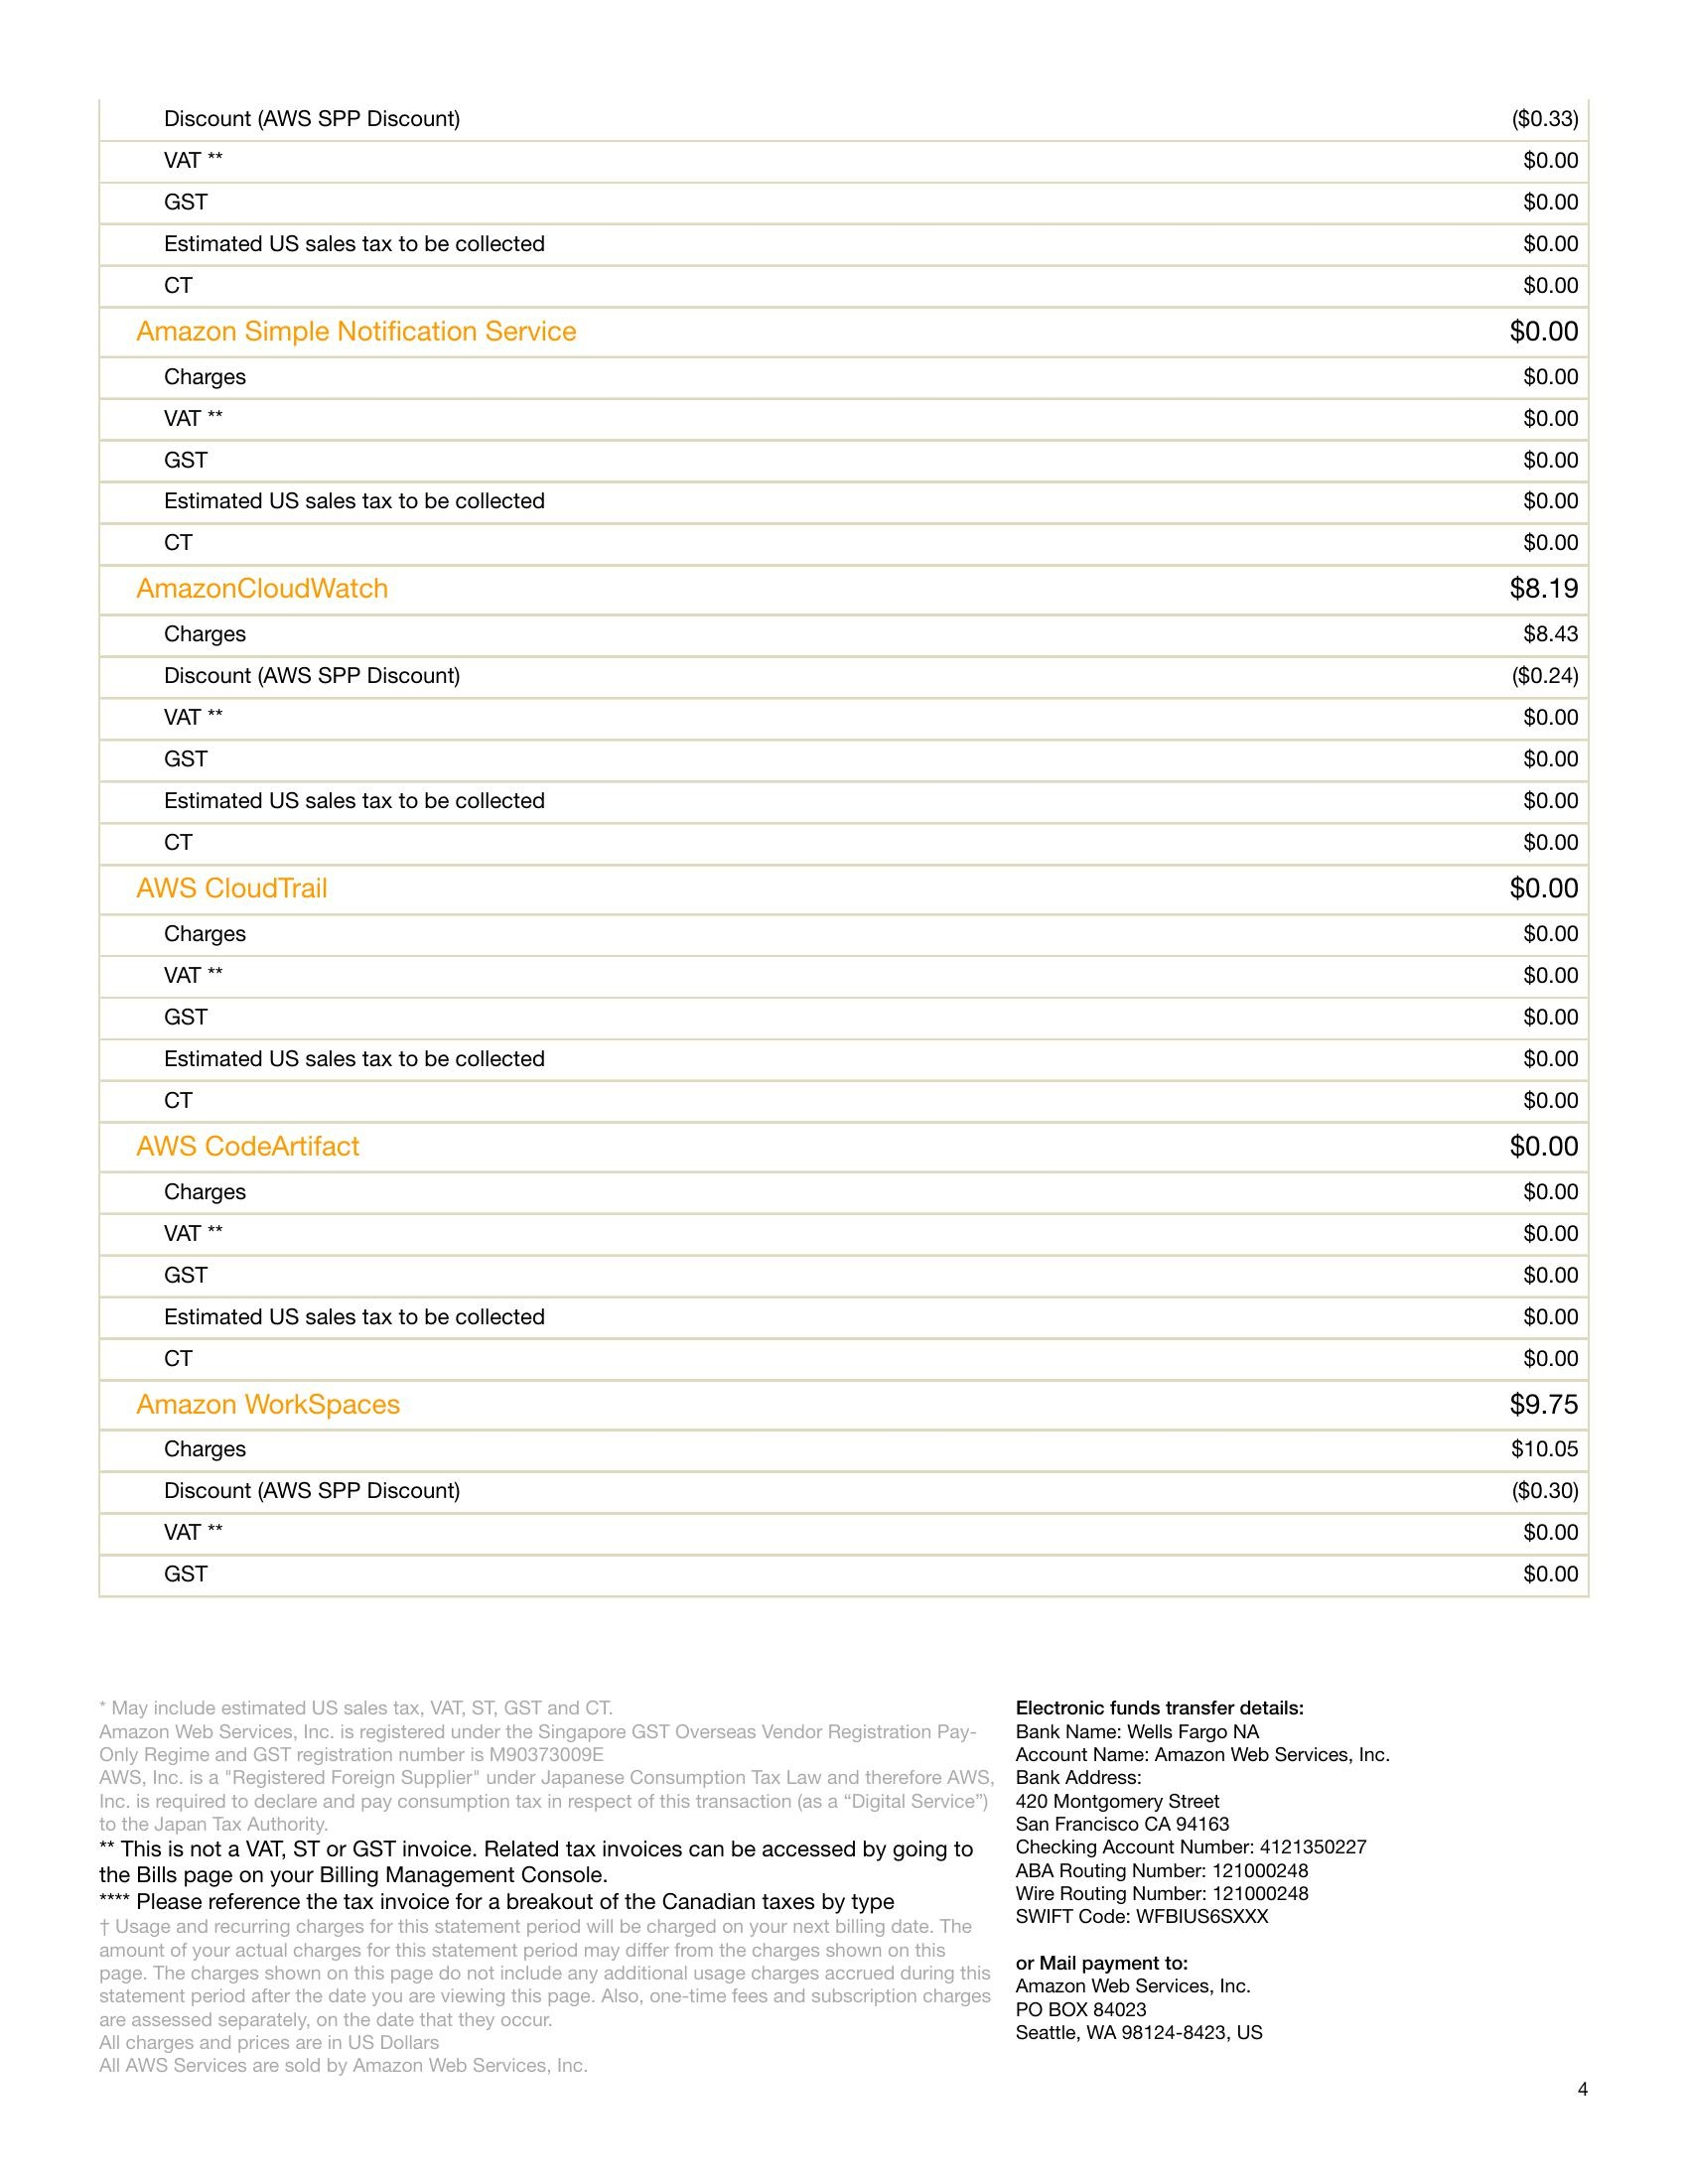table: (82, 96, 1587, 1604)
